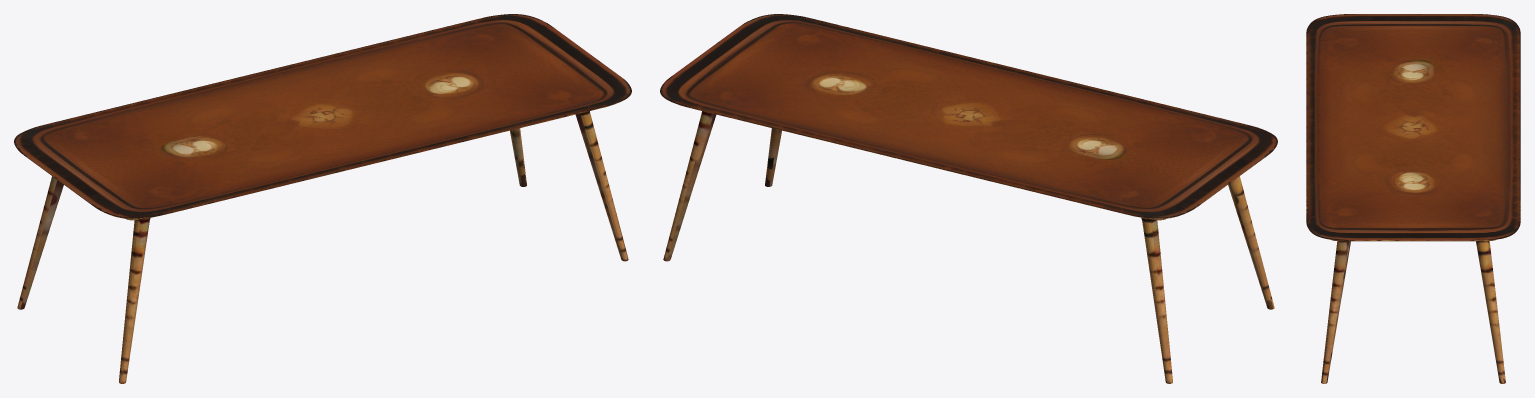
File: edited_mesh.glb
The picture shows the model from 3 angles, left to right: view 1: azimuth 30°, elevation 25°; view 2: azimuth 150°, elevation 25°; view 3: azimuth 270°, elevation 25°; orthographic projection. The views are drawn at different scales.
Visible parts, largest first — view 1: normalized_model.obj; view 2: normalized_model.obj; view 3: normalized_model.obj.
Part boxes in pixels (box(x1,y1,x2,y2)): normalized_model.obj: box(14, 14, 631, 383); normalized_model.obj: box(660, 14, 1277, 383); normalized_model.obj: box(1306, 14, 1520, 383).
Bounding box in the file's own units: 2 × 0.6096 × 0.8.
1 material, 1 textured.
